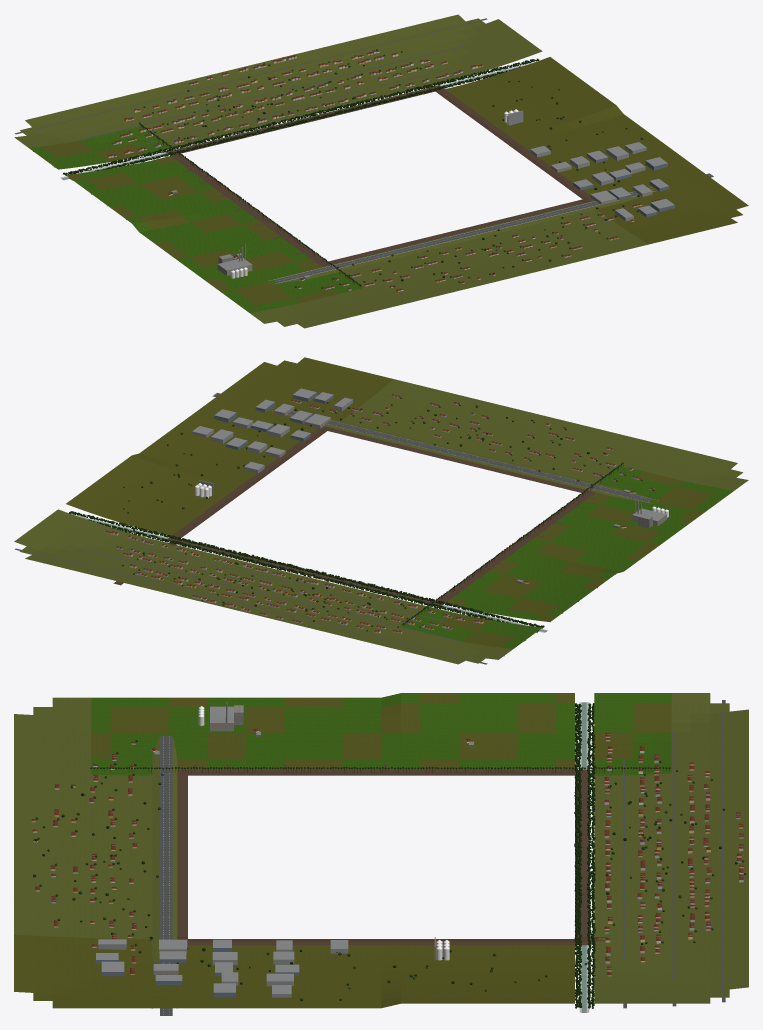
File: cidade_anel.gltf
3 views of the same model, one above another, from view 1: azimuth 30°, elevation 25°; view 2: azimuth 150°, elevation 25°; view 3: azimuth 270°, elevation 25° (orthographic). The views are drawn at different scales.
Parts seen in each view (by area): view 1: ANEL_NE, ANEL_NO, ANEL_N, ANEL_SE, ANEL_SO, ANEL_L, ANEL_S, ANEL_O; view 2: ANEL_SE, ANEL_SO, ANEL_NE, ANEL_S, ANEL_NO, ANEL_L, ANEL_N, ANEL_O; view 3: ANEL_NO, ANEL_SO, ANEL_SE, ANEL_NE, ANEL_O, ANEL_S, ANEL_N, ANEL_L.
Part boxes in pixels (bbox=[...]): ANEL_NE: bbox=[338, 14, 564, 121]; ANEL_NO: bbox=[14, 92, 254, 194]; ANEL_N: bbox=[15, 18, 487, 166]; ANEL_SE: bbox=[531, 156, 748, 250]; ANEL_SO: bbox=[198, 228, 424, 328]; ANEL_L: bbox=[426, 67, 682, 210]; ANEL_S: bbox=[279, 191, 640, 300]; ANEL_O: bbox=[80, 149, 325, 275]; ANEL_SE: bbox=[198, 357, 424, 460]; ANEL_SO: bbox=[518, 435, 748, 531]; ANEL_NE: bbox=[14, 492, 254, 586]; ANEL_S: bbox=[286, 385, 649, 502]; ANEL_NO: bbox=[338, 567, 564, 664]; ANEL_L: bbox=[80, 410, 330, 584]; ANEL_N: bbox=[15, 537, 524, 664]; ANEL_O: bbox=[434, 492, 681, 611]; ANEL_NO: bbox=[459, 693, 748, 821]; ANEL_SO: bbox=[14, 697, 303, 819]; ANEL_SE: bbox=[14, 898, 303, 1015]; ANEL_NE: bbox=[459, 889, 748, 1012]; ANEL_O: bbox=[177, 693, 597, 775]; ANEL_S: bbox=[14, 737, 187, 1008]; ANEL_N: bbox=[574, 700, 748, 1008]; ANEL_L: bbox=[149, 937, 604, 1008].
Size of the model in its own units: 1540 by 67.5 by 1520.
Materials: 34 (31 with a texture image).
